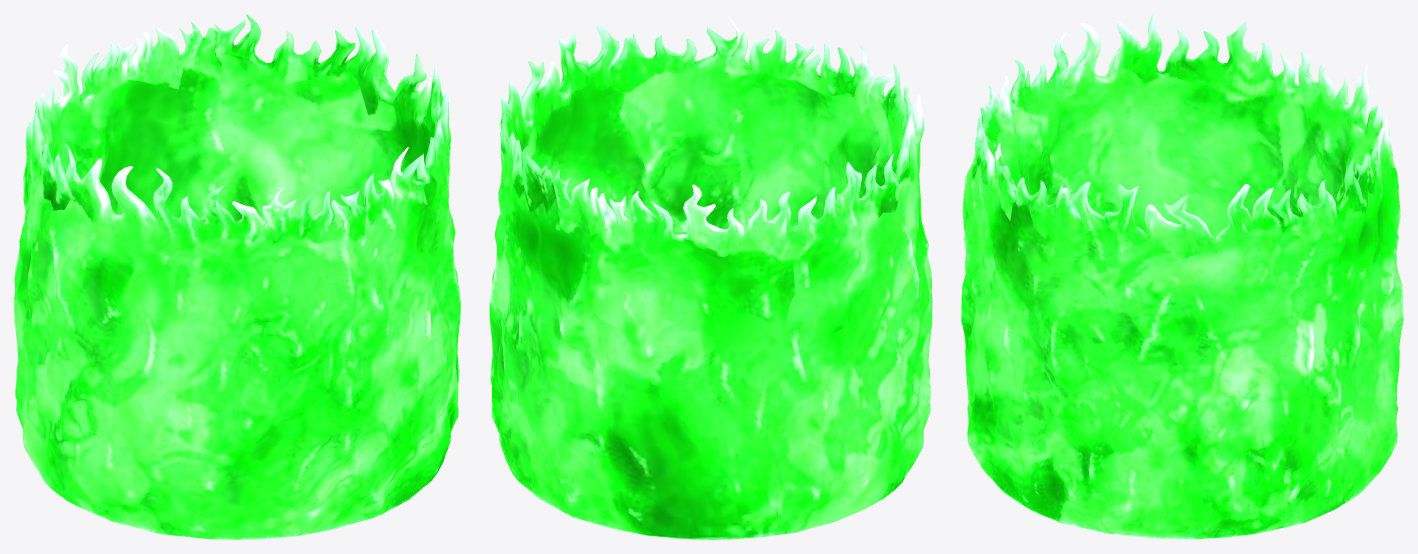
File: MZ4250 - Wall of Fire_ring_green.glb
3 views of the same model, side by side, from view 1: azimuth 30°, elevation 25°; view 2: azimuth 150°, elevation 25°; view 3: azimuth 270°, elevation 25° (orthographic).
Parts seen in each view (by area): view 1: Cylinder.003; view 2: Cylinder.003; view 3: Cylinder.003.
Part boxes in pixels (x1,y1,x2,y2): Cylinder.003: (14,14,460,539); Cylinder.003: (489,15,932,539); Cylinder.003: (961,14,1403,539).
Bounding box in the file's own units: 2.97 × 2.67 × 3.
Materials: 1 (1 with a texture image).
